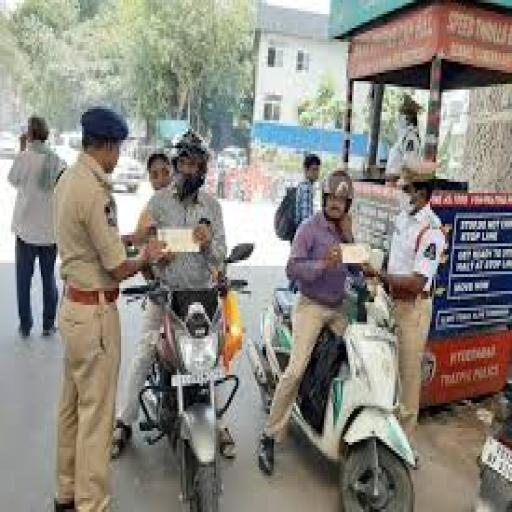helmet: (318, 165, 354, 218)
overloading: (11, 92, 453, 504)
